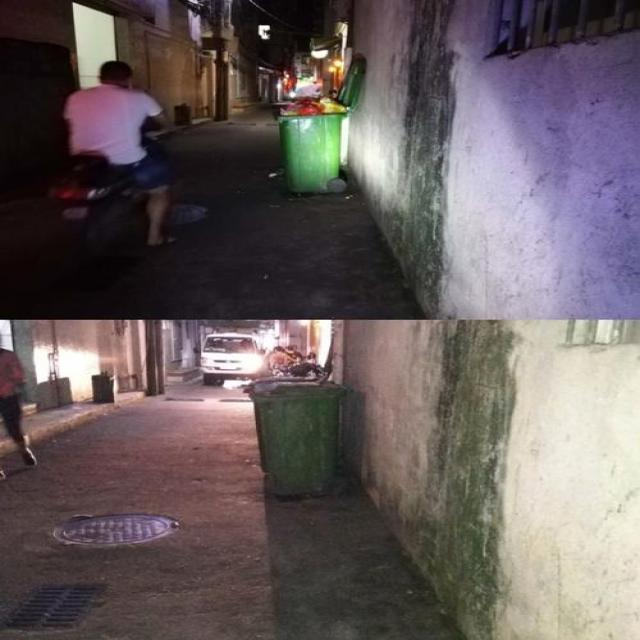garbage_bin: (248, 377, 342, 495)
overflow: (276, 96, 347, 192)
